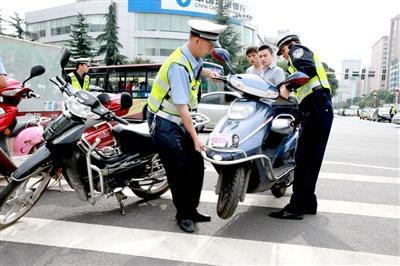non-vehicle: (1, 92, 179, 222), (202, 70, 299, 218), (2, 69, 54, 151)
